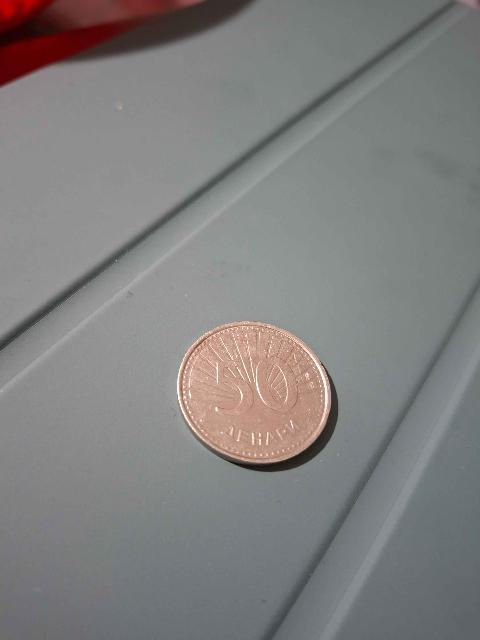50_coin: (183, 322, 326, 465)
